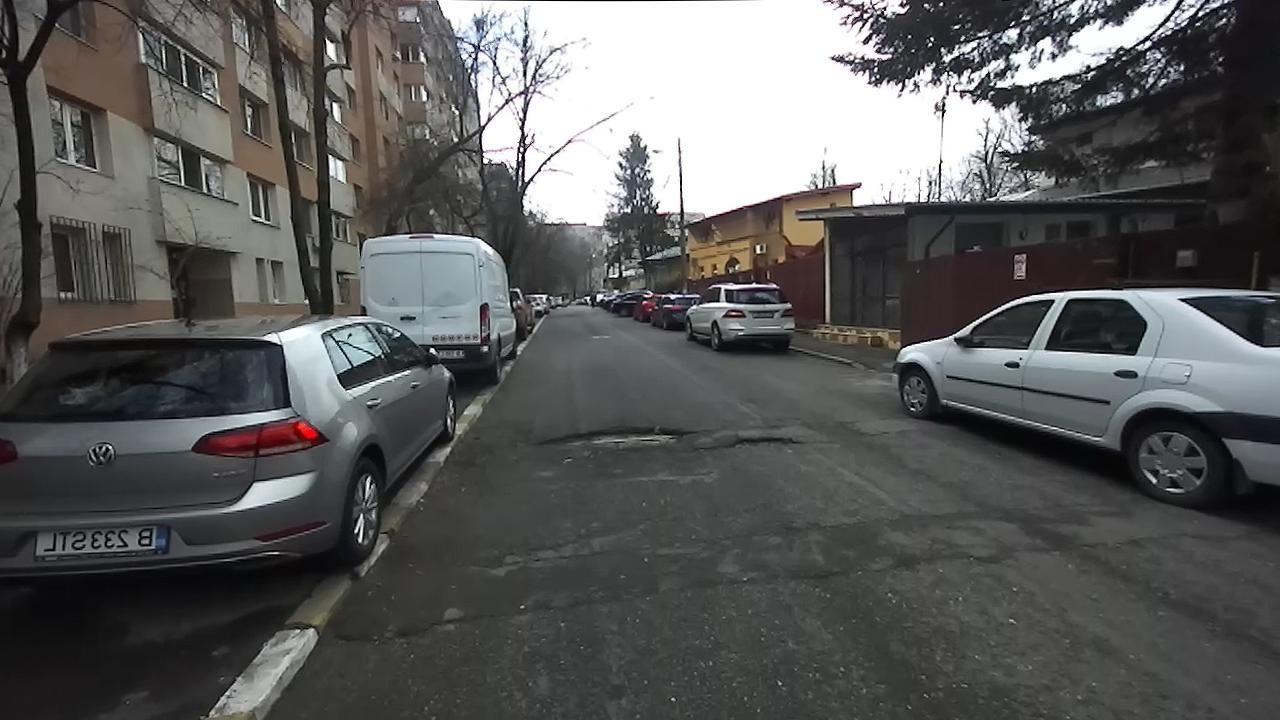pothole: (529, 421, 698, 456), (336, 607, 478, 648), (720, 432, 805, 452)
